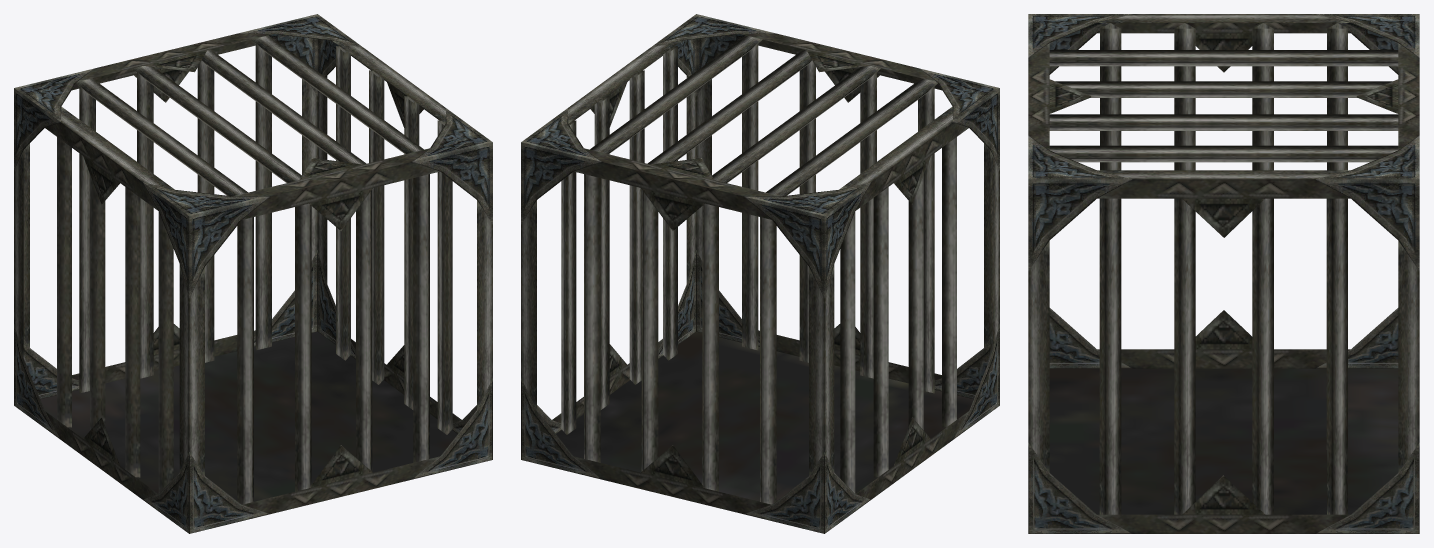
The model's file is IronCage.gltf.
3 renders of one model, left to right at view 1: azimuth 30°, elevation 25°; view 2: azimuth 150°, elevation 25°; view 3: azimuth 270°, elevation 25°, orthographic. The views are drawn at different scales.
Visible parts, largest first — view 1: CageMesh; view 2: CageMesh; view 3: CageMesh.
Part boxes in pixels (left/top/right/bottom): CageMesh: left=14, top=14, right=492, bottom=533; CageMesh: left=521, top=14, right=999, bottom=533; CageMesh: left=1028, top=14, right=1419, bottom=533.
Bounding box in the file's own units: 2 × 2 × 2.
Materials: 1 (1 with a texture image).
